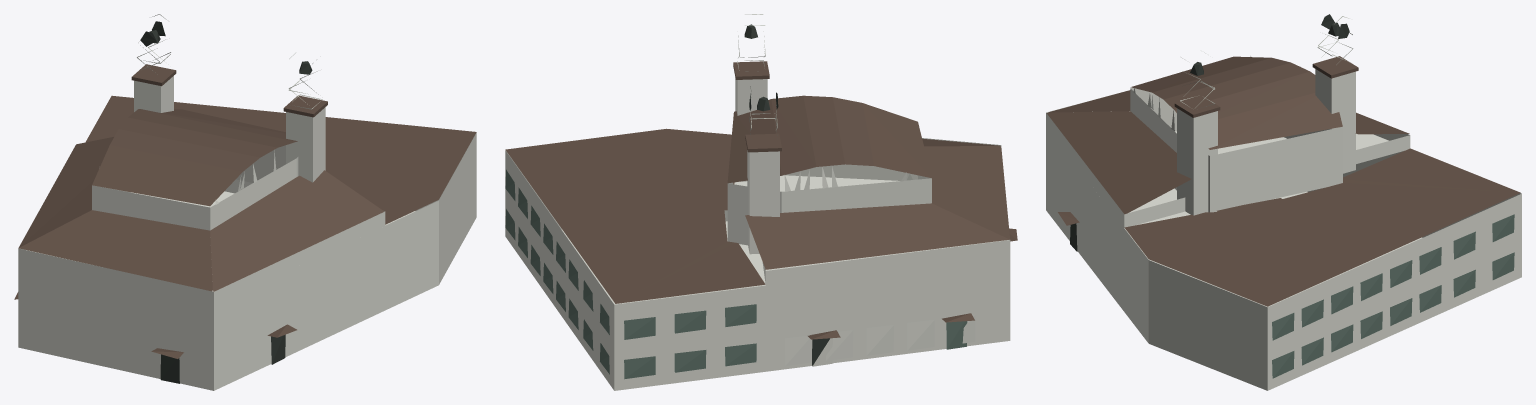
The model's file is podium-mozaiek.lod2.glb.
The picture shows the model from 3 angles, left to right: view 1: azimuth 30°, elevation 25°; view 2: azimuth 150°, elevation 25°; view 3: azimuth 270°, elevation 25°; orthographic projection. The views are drawn at different scales.
Parts seen in each view (by area): view 1: lod2; view 2: lod2; view 3: lod2.
Boxes of the visible parts, left/top/right/bottom form: lod2: left=14, top=14, right=476, bottom=390; lod2: left=505, top=14, right=1017, bottom=390; lod2: left=1046, top=14, right=1521, bottom=390.
Bounding box in the file's own units: 45.34 × 22.13 × 39.67.
